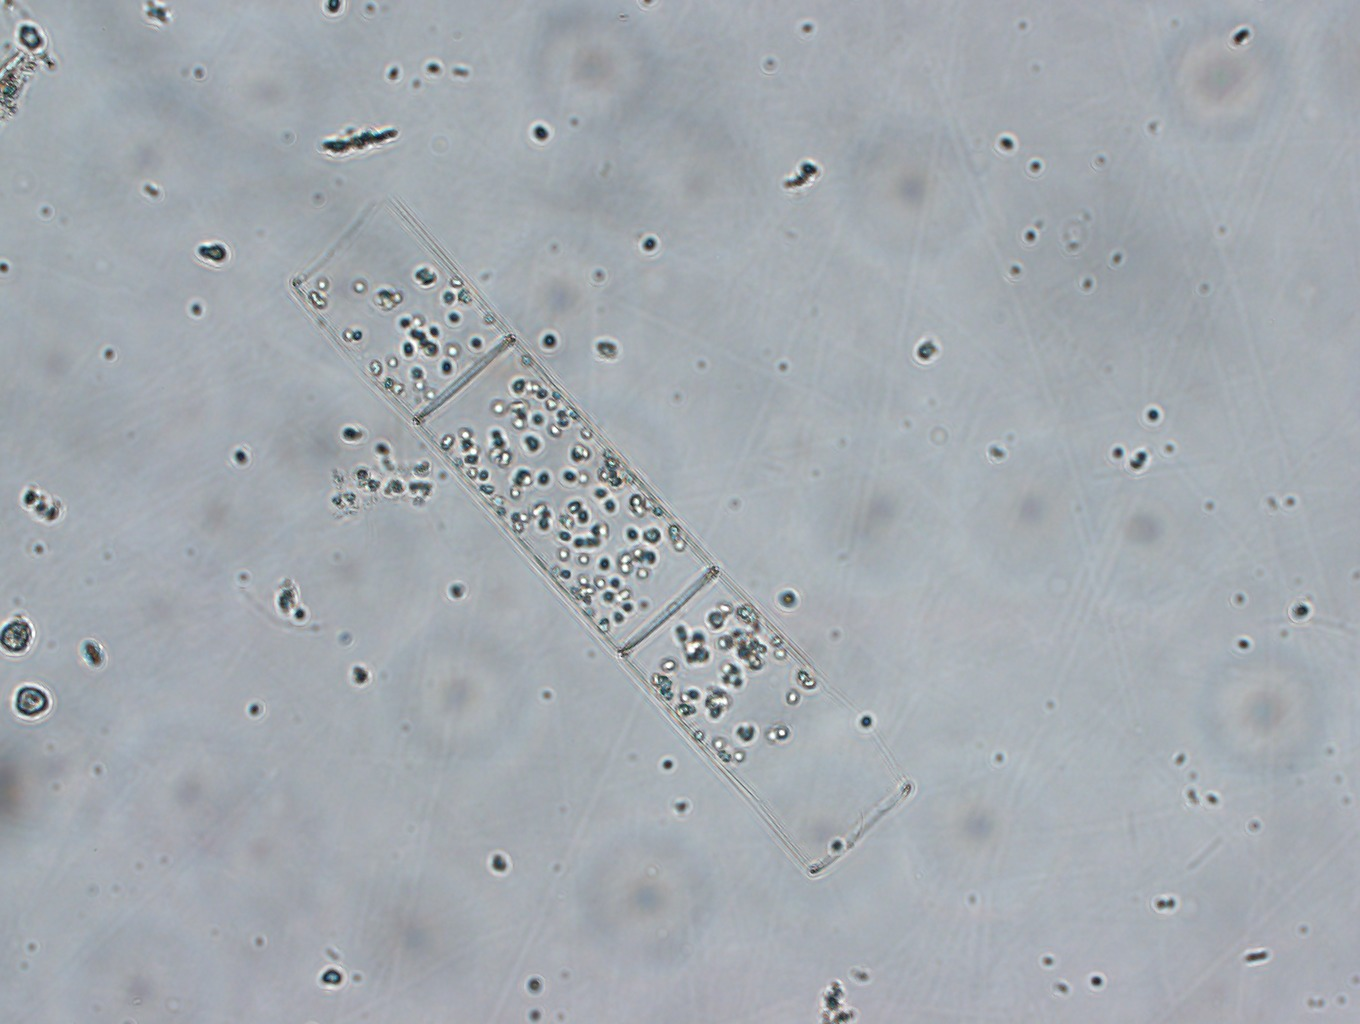guinardia flaccida: (272, 180, 924, 893)
